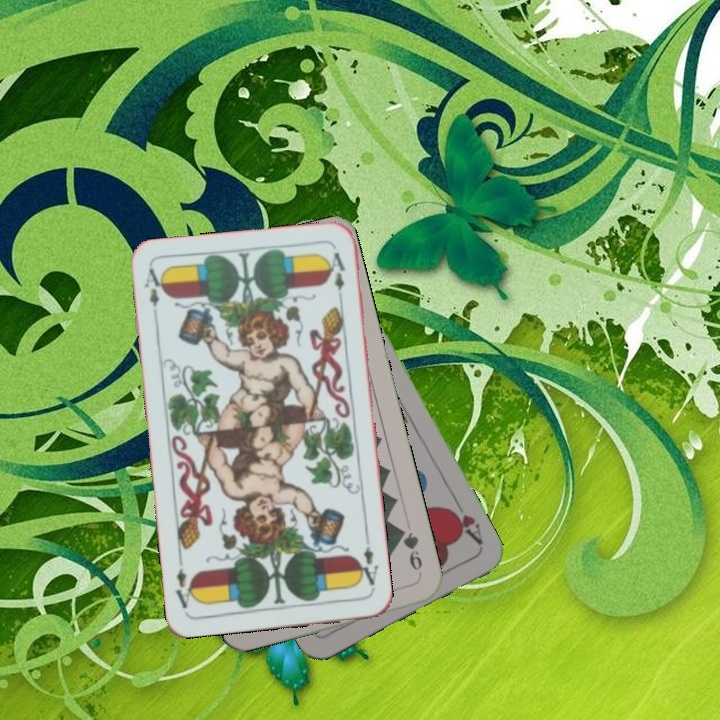EA: (353, 534, 381, 593), (140, 264, 167, 309)
G9: (395, 524, 425, 580)
HA: (444, 494, 486, 548)
